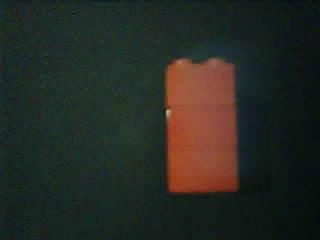lego: (164, 55, 239, 196)
